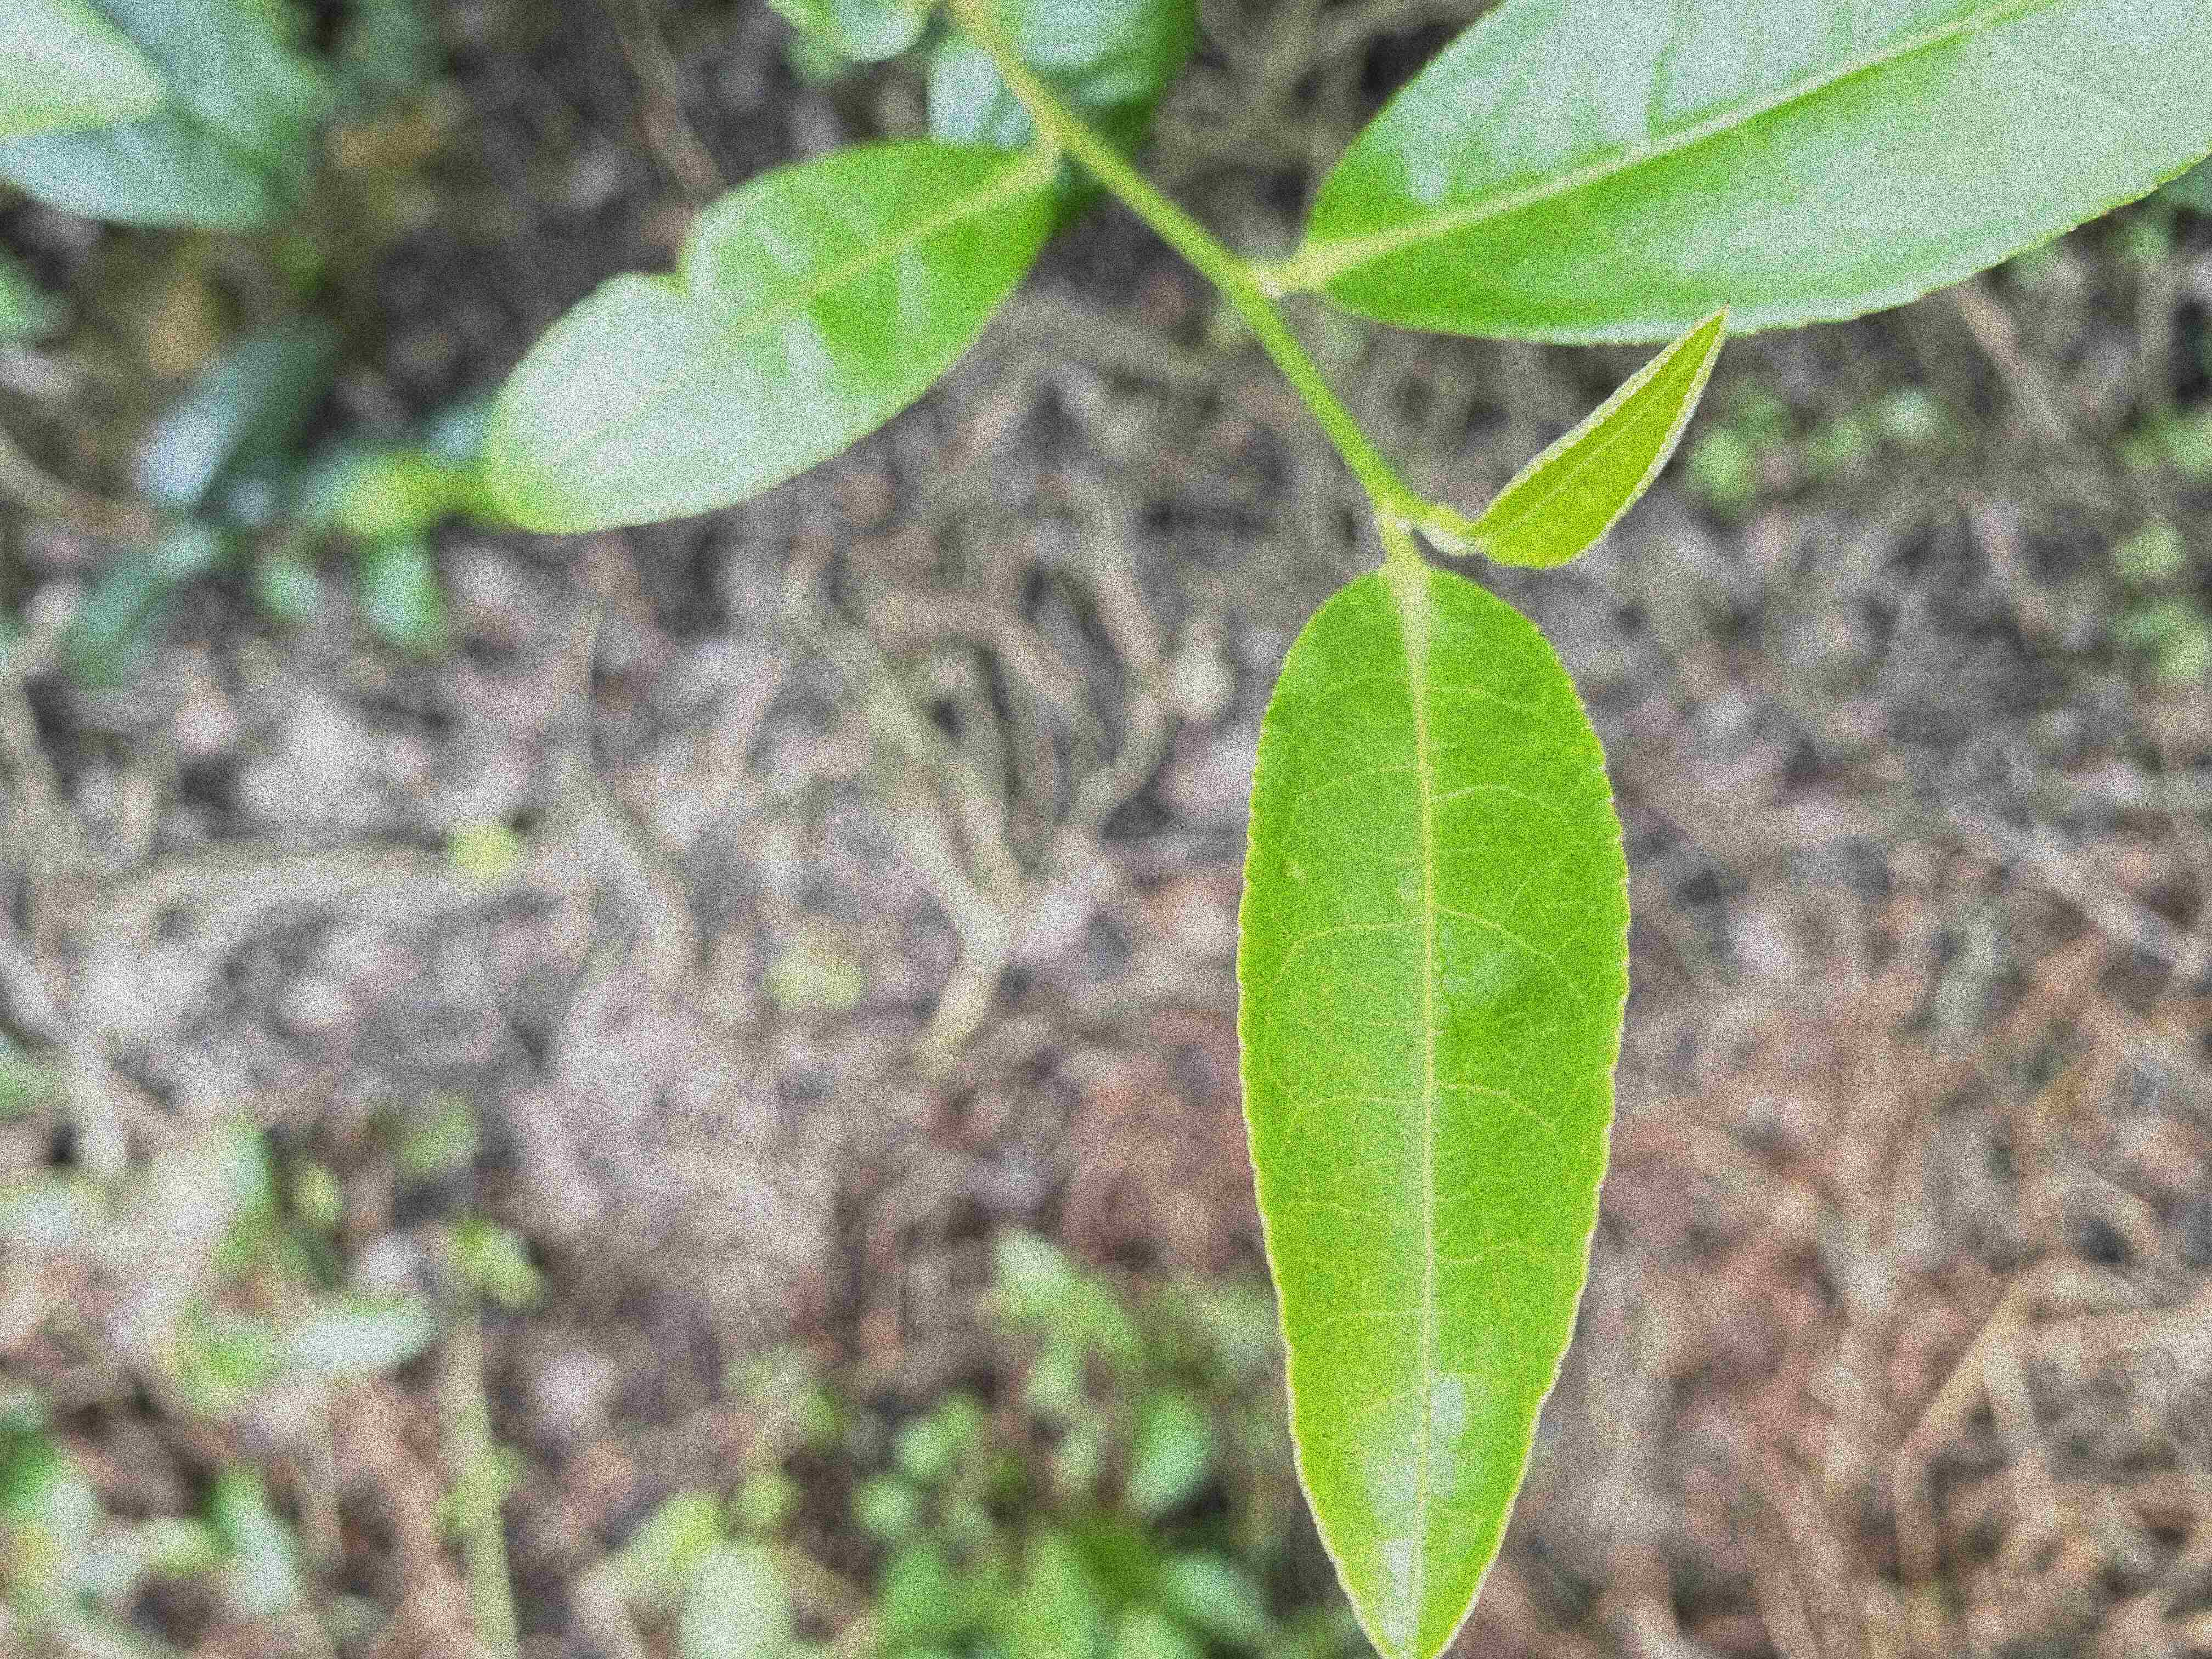chihuo_low: (481, 139, 1055, 535)
healthy: (1238, 556, 1634, 1657), (1294, 3, 2207, 350), (1468, 307, 1726, 568)
